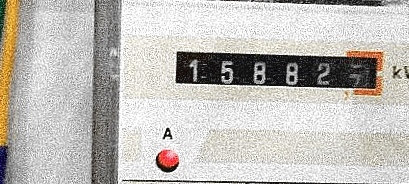1: (187, 54, 201, 83)
2: (314, 60, 332, 87)
5: (218, 57, 236, 88)
7: (347, 70, 361, 88)
8: (250, 58, 267, 87), (283, 59, 300, 87)
screen: (163, 34, 391, 104)
